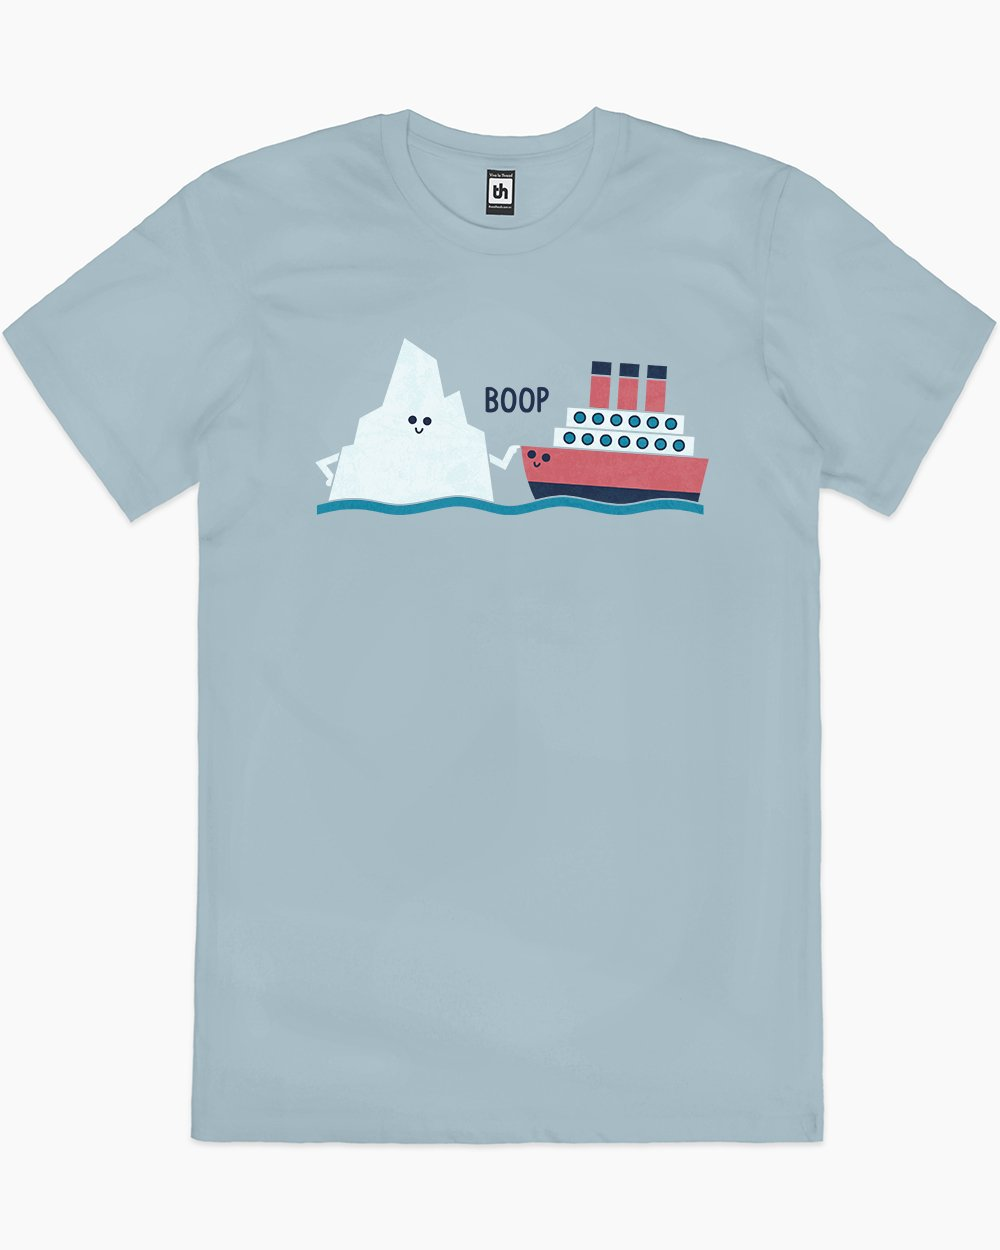design: (307, 330, 718, 524)
